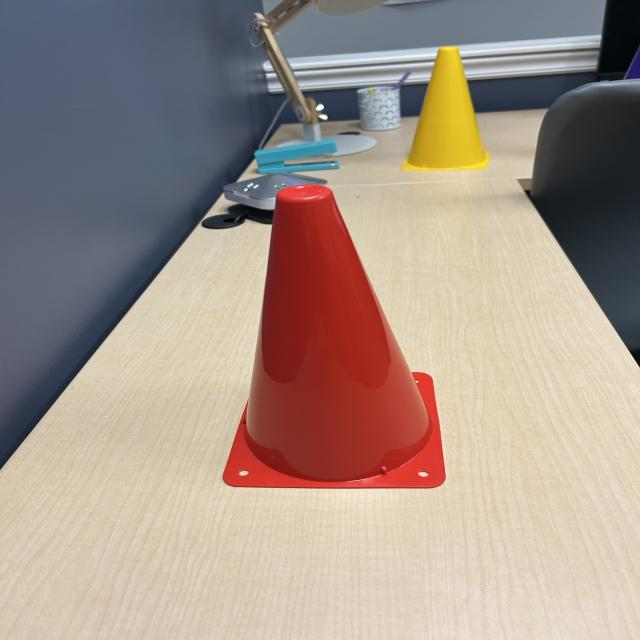orange cone: (219, 180, 459, 498)
yellow cone: (400, 46, 492, 176)
